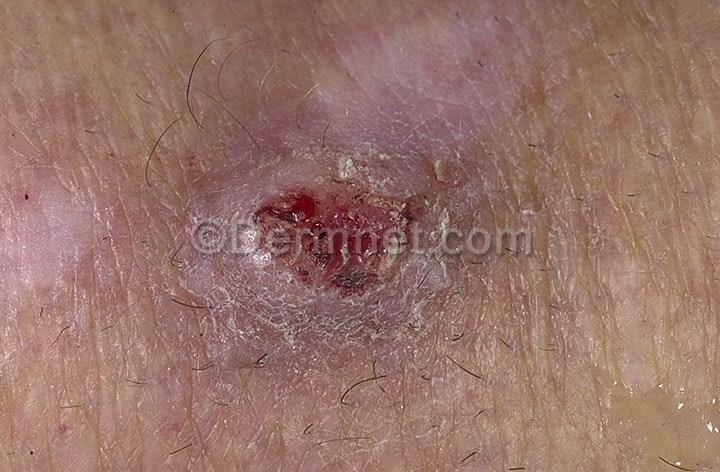Eczema: (222, 265, 496, 412), (289, 0, 580, 131), (239, 99, 459, 232), (0, 66, 121, 307), (536, 200, 629, 321), (141, 208, 208, 328), (459, 129, 543, 222)
